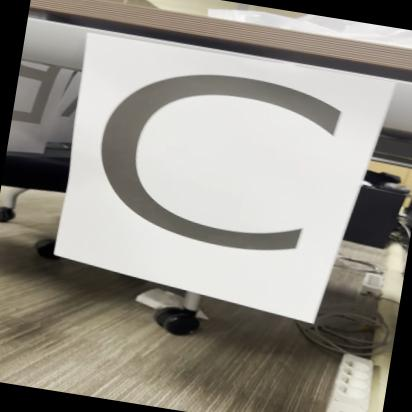seat: (68, 30, 376, 319)
